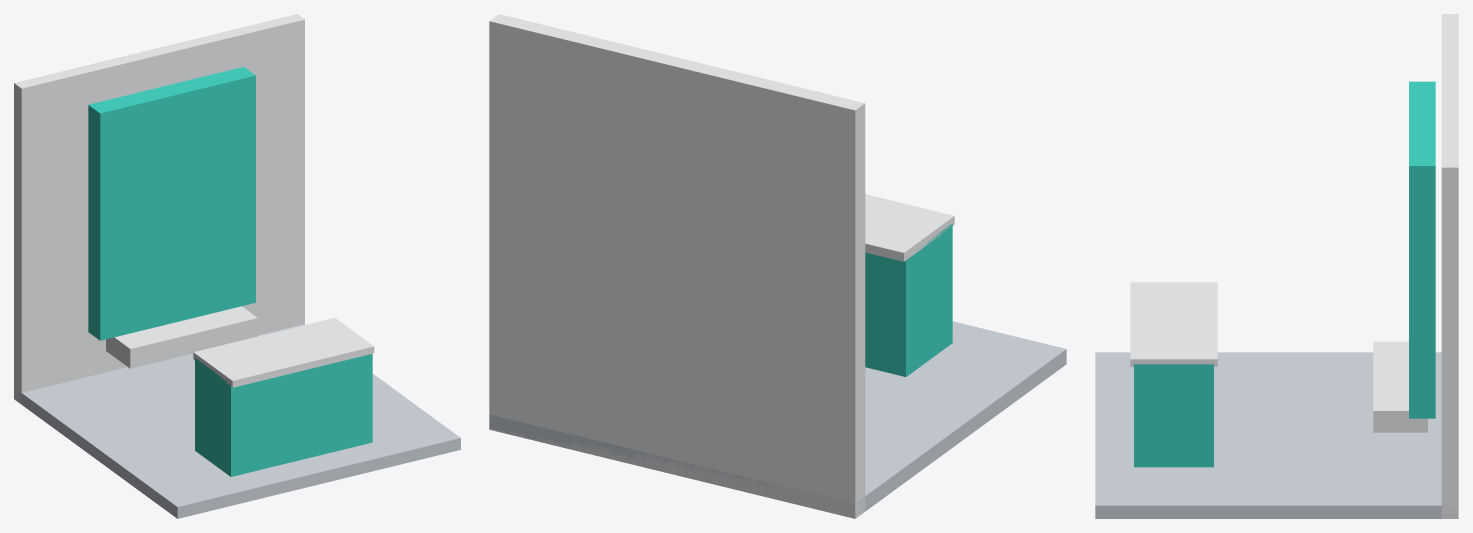
The picture shows the model from 3 angles, left to right: view 1: azimuth 30°, elevation 25°; view 2: azimuth 150°, elevation 25°; view 3: azimuth 270°, elevation 25°; orthographic projection. The views are drawn at different scales.
Parts seen in each view (by area): view 1: Exhibition Booth Concept; view 2: Exhibition Booth Concept; view 3: Exhibition Booth Concept.
Boxes of the visible parts, <box> form: Exhibition Booth Concept: <box>14,14,460,518</box>; Exhibition Booth Concept: <box>489,14,1066,518</box>; Exhibition Booth Concept: <box>1095,14,1458,518</box>.
Bounding box in the file's own units: 3 × 3.2 × 3.
